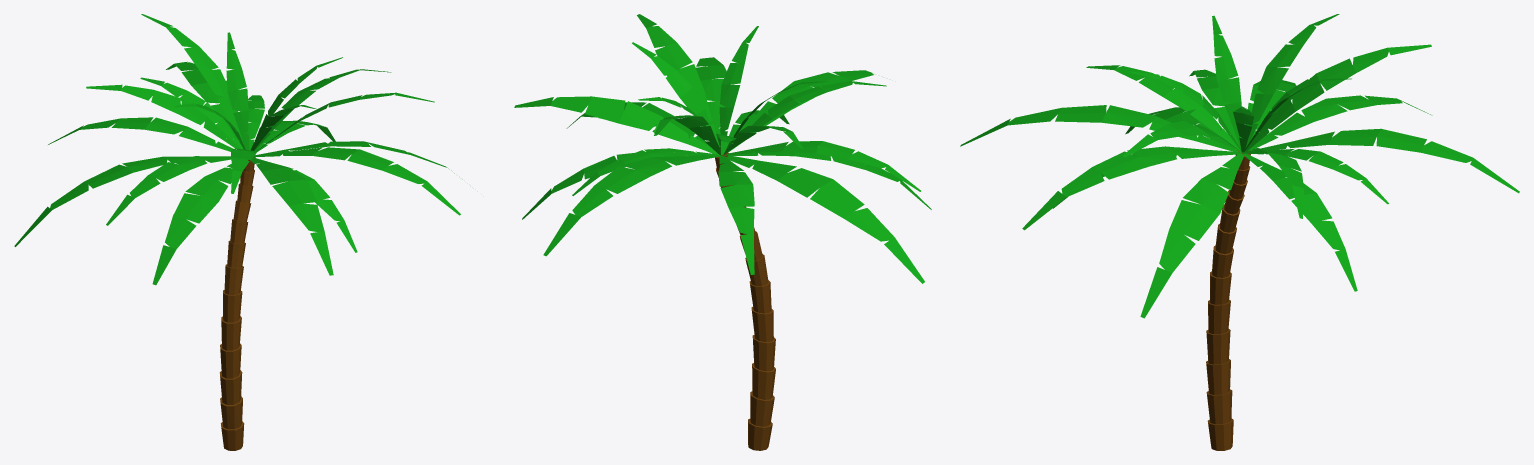
Rendered from lowpolypalm.obj.
3 views of the same model, side by side, from view 1: azimuth 30°, elevation 25°; view 2: azimuth 150°, elevation 25°; view 3: azimuth 270°, elevation 25° (orthographic). The views are drawn at different scales.
Parts seen in each view (by area): view 1: palm_Cylinder; view 2: palm_Cylinder; view 3: palm_Cylinder.
Part boxes in pixels (bbox=[...]): palm_Cylinder: bbox=[14, 14, 462, 450]; palm_Cylinder: bbox=[514, 14, 931, 450]; palm_Cylinder: bbox=[960, 14, 1519, 450].
Bounding box in the file's own units: 18.46 × 15.82 × 19.88.
1 material, 1 textured.
